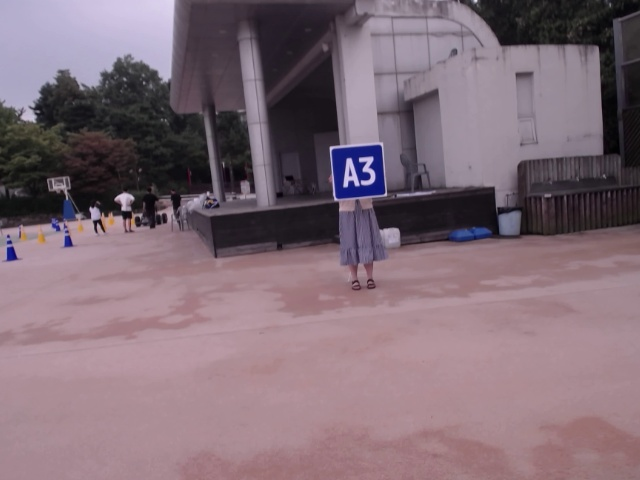delivery_a3: (330, 144, 387, 200)
